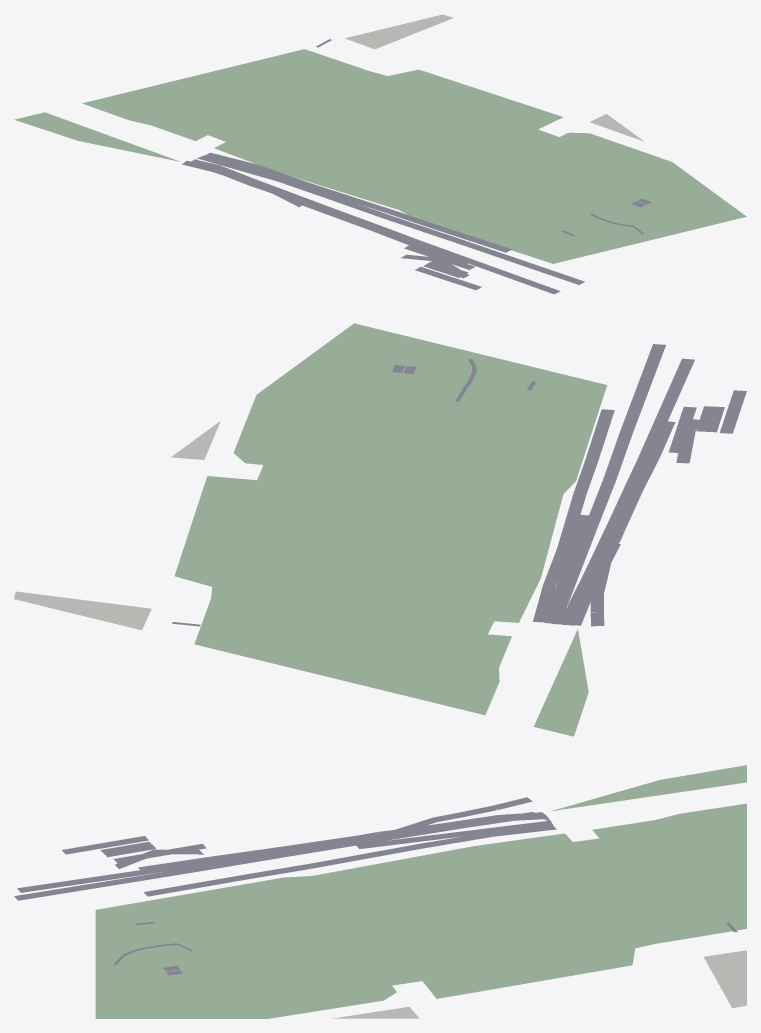
Rendered from 135_97_mid.glb.
The picture shows the model from 3 angles, top to bottom: view 1: azimuth 30°, elevation 25°; view 2: azimuth 150°, elevation 25°; view 3: azimuth 270°, elevation 25°; orthographic projection. The views are drawn at different scales.
Bounding box in the file's own units: 461 × 8.31 × 563.
